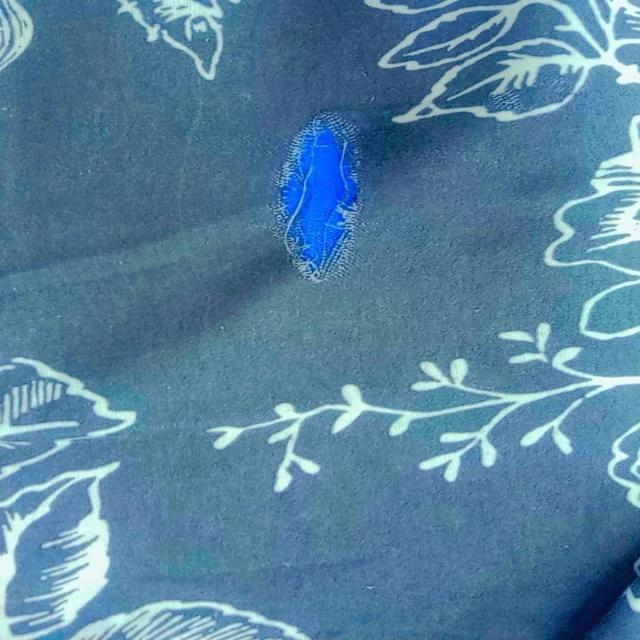cut: (257, 106, 381, 286)
